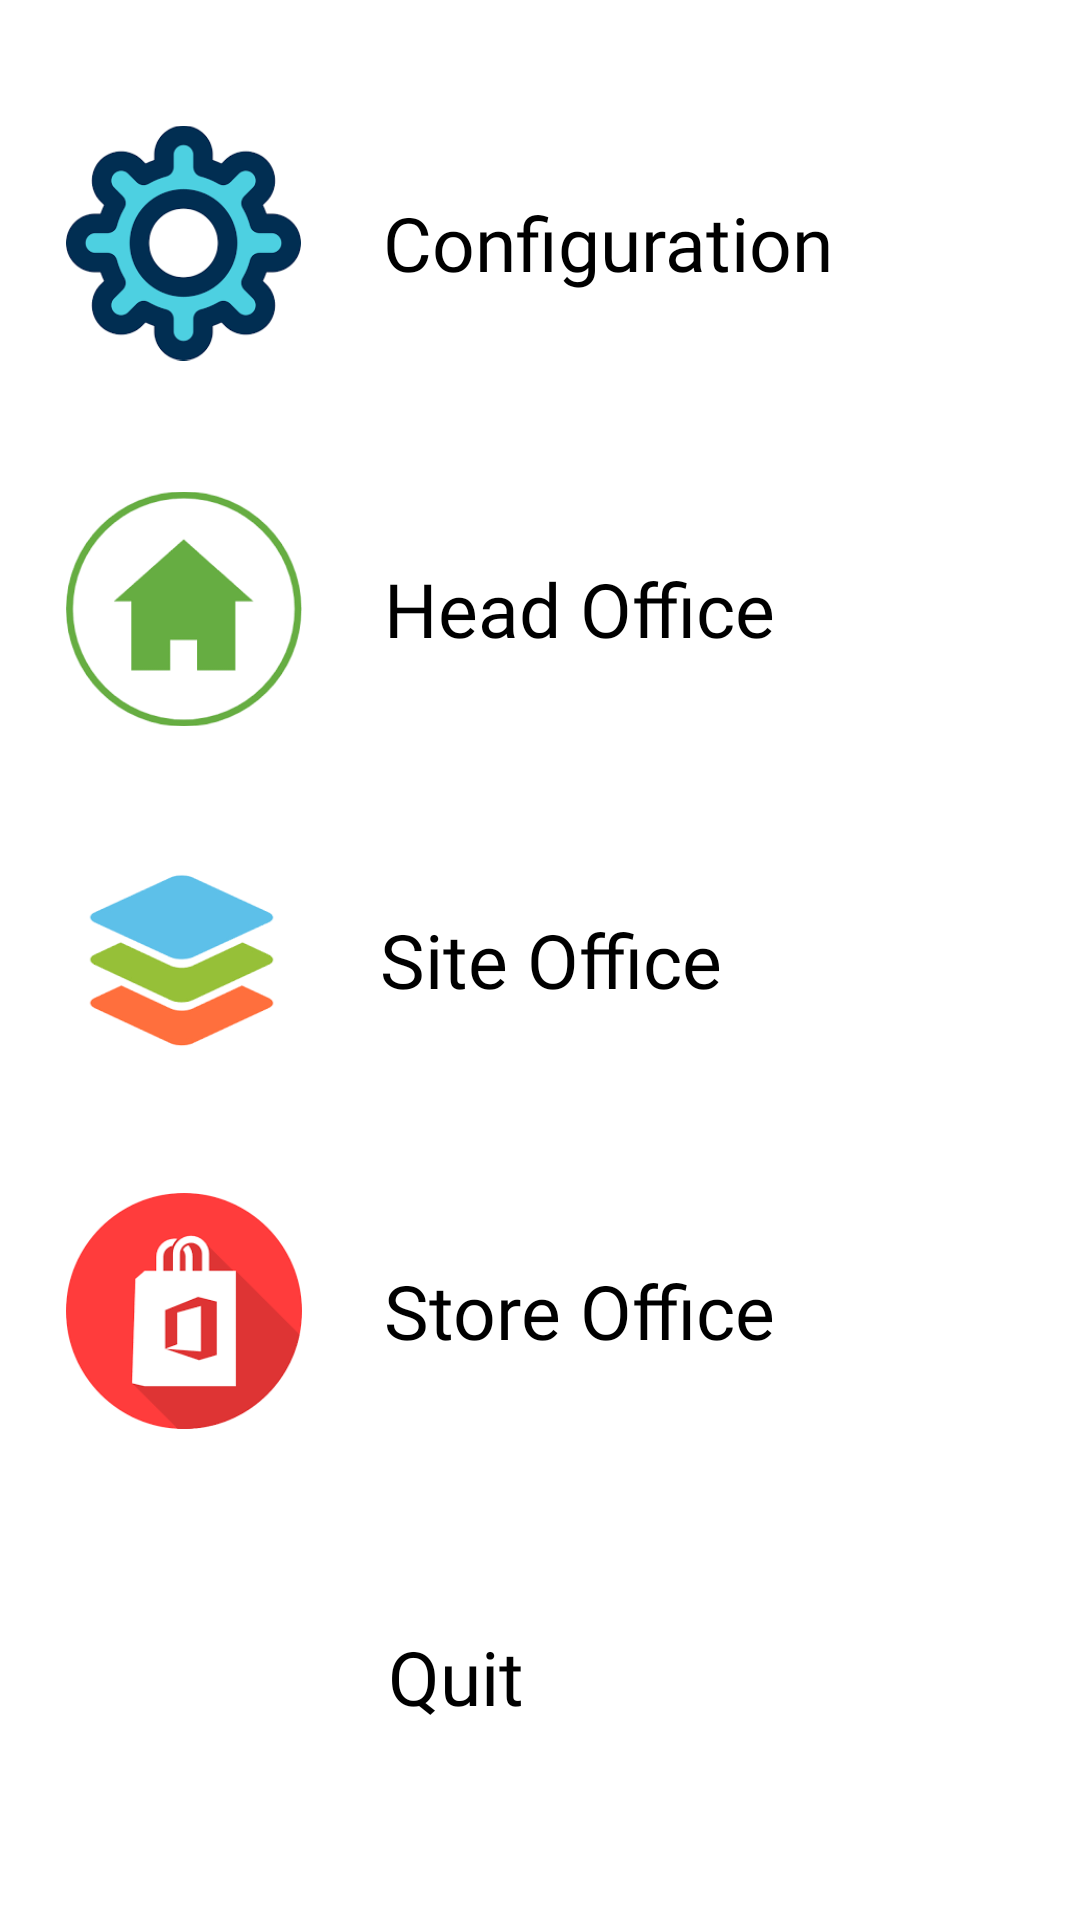

Locate icon controls on the screen. Image size 1080x1920, boxes as (x1, y1, x2, y2).
hoimages: (66, 492, 302, 726)
